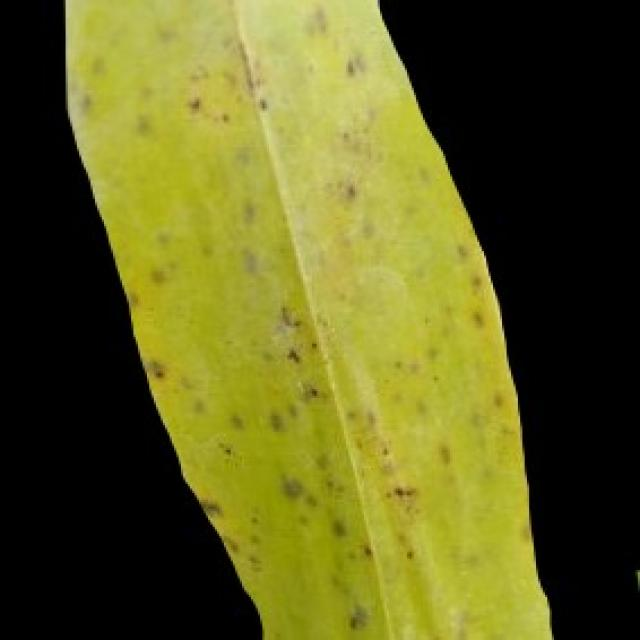mite: (617, 536, 638, 635), (624, 547, 638, 608), (629, 556, 638, 638), (278, 473, 303, 500), (344, 604, 369, 631), (631, 563, 638, 599)
spots: (59, 0, 563, 638)
